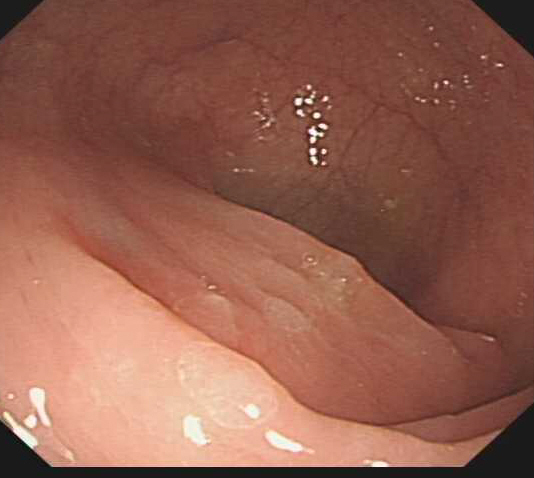others: (173, 341, 281, 433), (257, 294, 309, 336)
